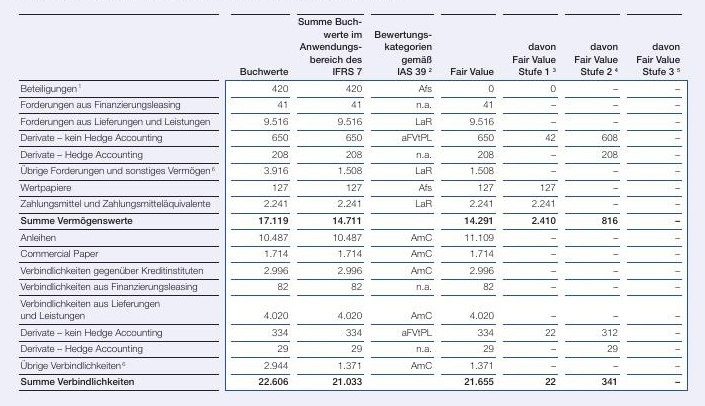table: (0, 0, 705, 406)
